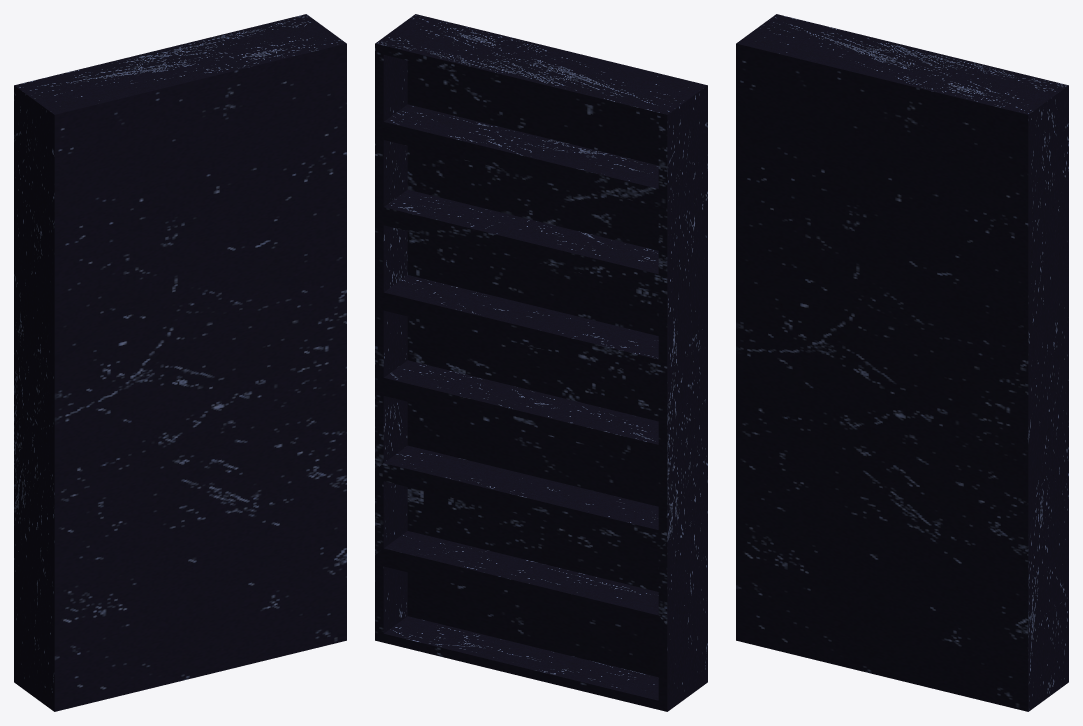
Rendered from ScaffaleScarpe.fbx.
3 renders of one model, left to right at view 1: azimuth 30°, elevation 25°; view 2: azimuth 150°, elevation 25°; view 3: azimuth 330°, elevation 25°, orthographic.
Visible parts, largest first — view 1: Shoe_SHelf; view 2: Shoe_SHelf; view 3: Shoe_SHelf.
Boxes of the visible parts, <box> form: Shoe_SHelf: <box>14,14,346,711</box>; Shoe_SHelf: <box>375,14,707,711</box>; Shoe_SHelf: <box>736,14,1068,711</box>.
Bounding box in the file's own units: 101 × 198 × 24.28.
Materials: 1 (1 with a texture image).
